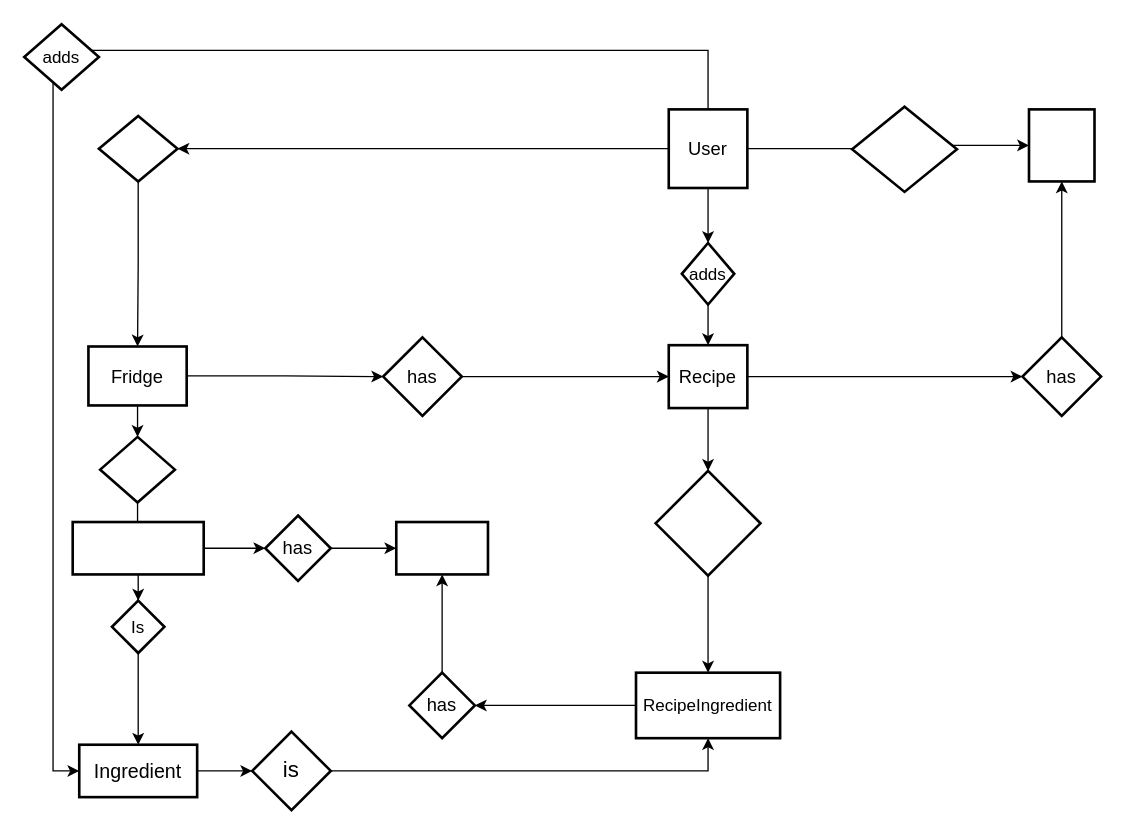
The diagram is 1124 pixels wide and 833 high, and some of its shapes have lost their labels. Each missing label, with the box of its shape:
contains: (98, 435, 176, 503)
FridgeIngredient: (71, 520, 204, 575)
is made of: (654, 469, 761, 576)
owns: (97, 114, 178, 182)
publishes: (850, 105, 958, 193)
Rating: (1027, 107, 1095, 182)
Unit: (394, 520, 489, 575)
